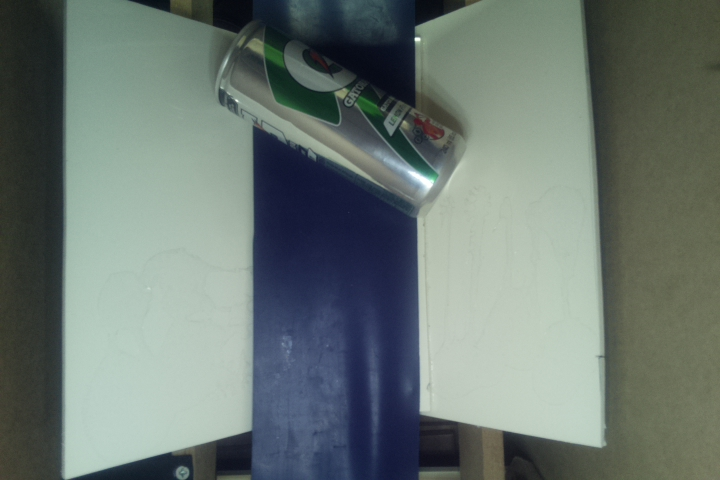can: (209, 16, 467, 220)
